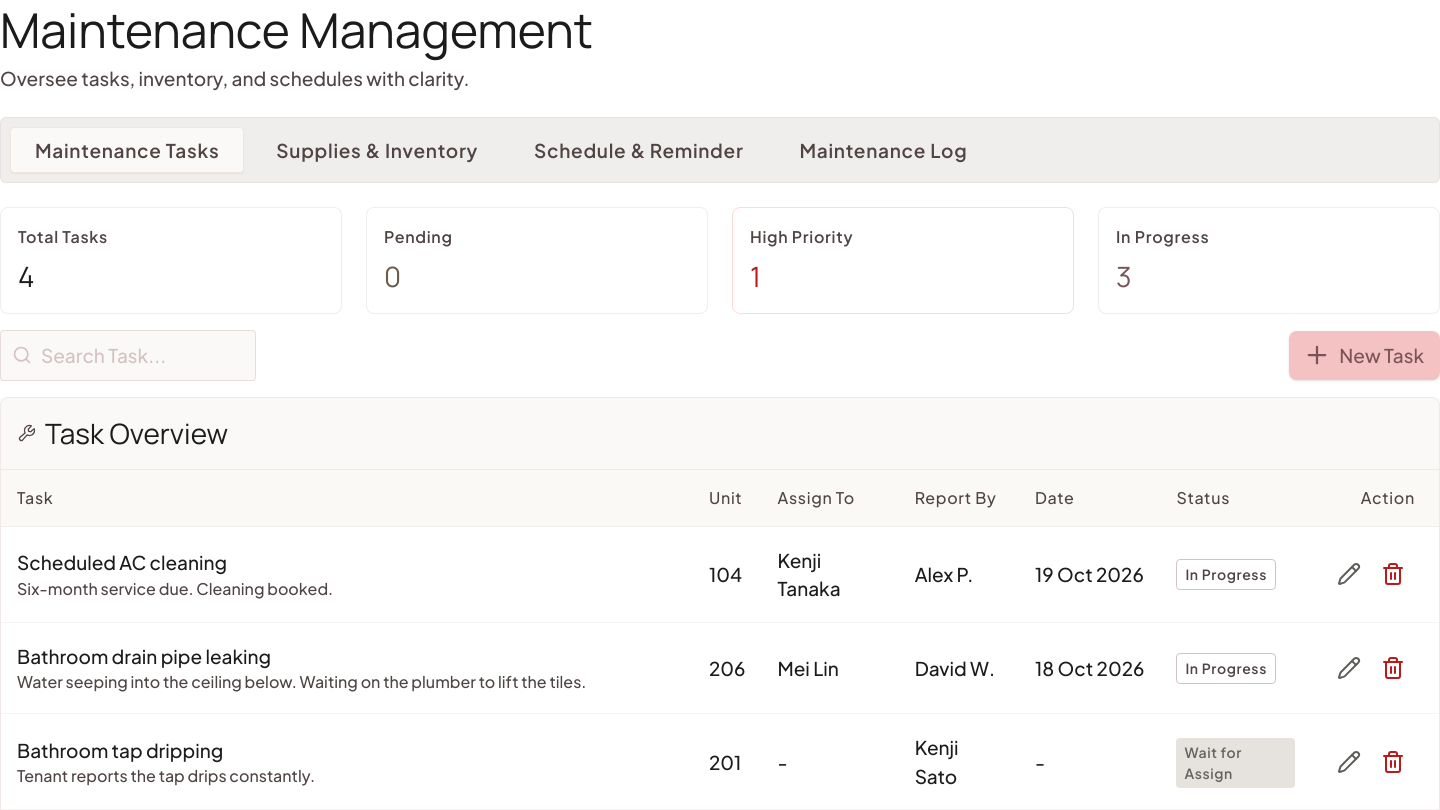
Scenario: แท็บ Maintenance Log › ค้นหาจนไม่เหลือรายการ แล้วกด Export ต้องไม่สร้างไฟล์เปล่า
The image size is (1440, 810).
Click the button "Maintenance Log" at (883,150), box [776, 126, 991, 173]
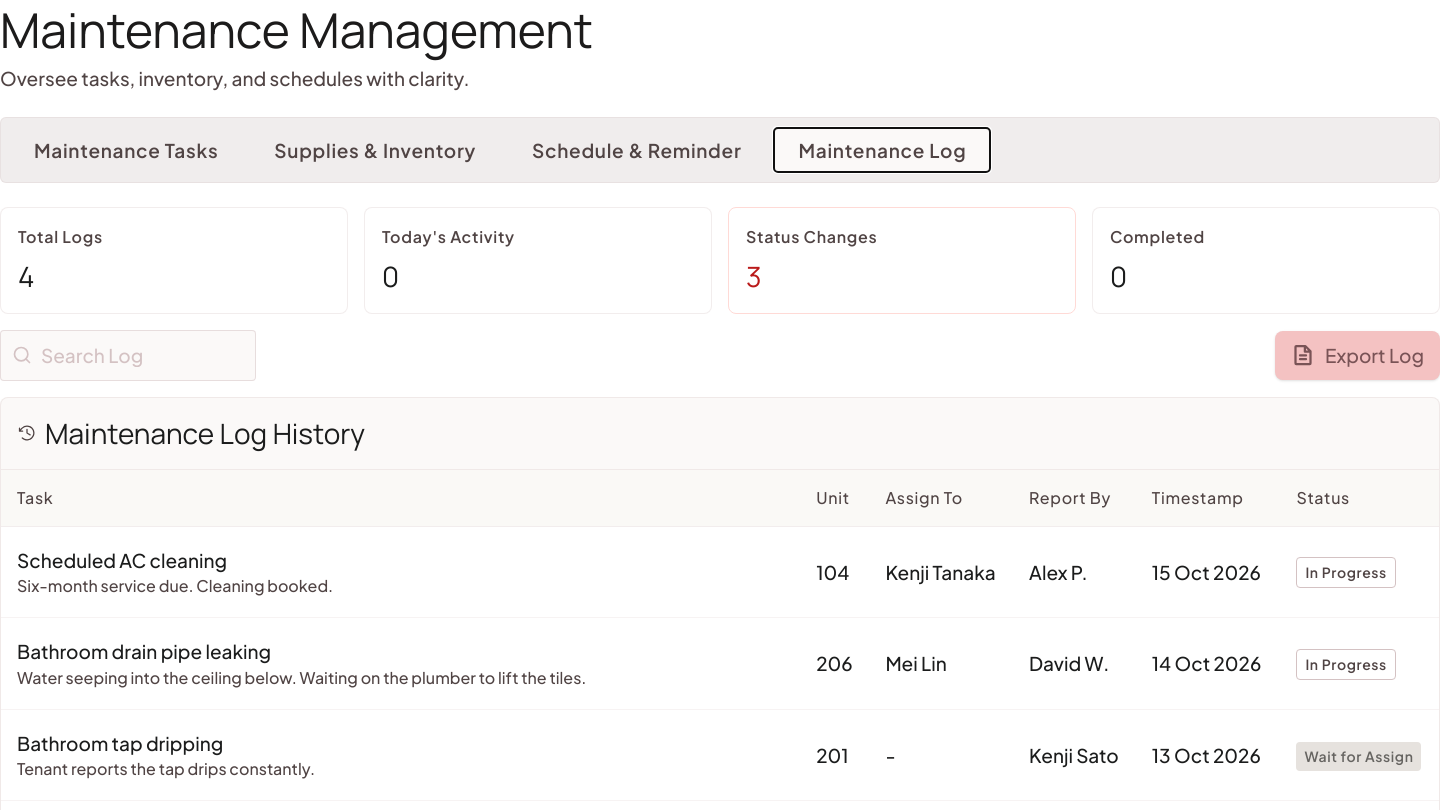
Type "no such task name" into the field named "Search the maintenance log" at (128,355), box [0, 330, 256, 381]
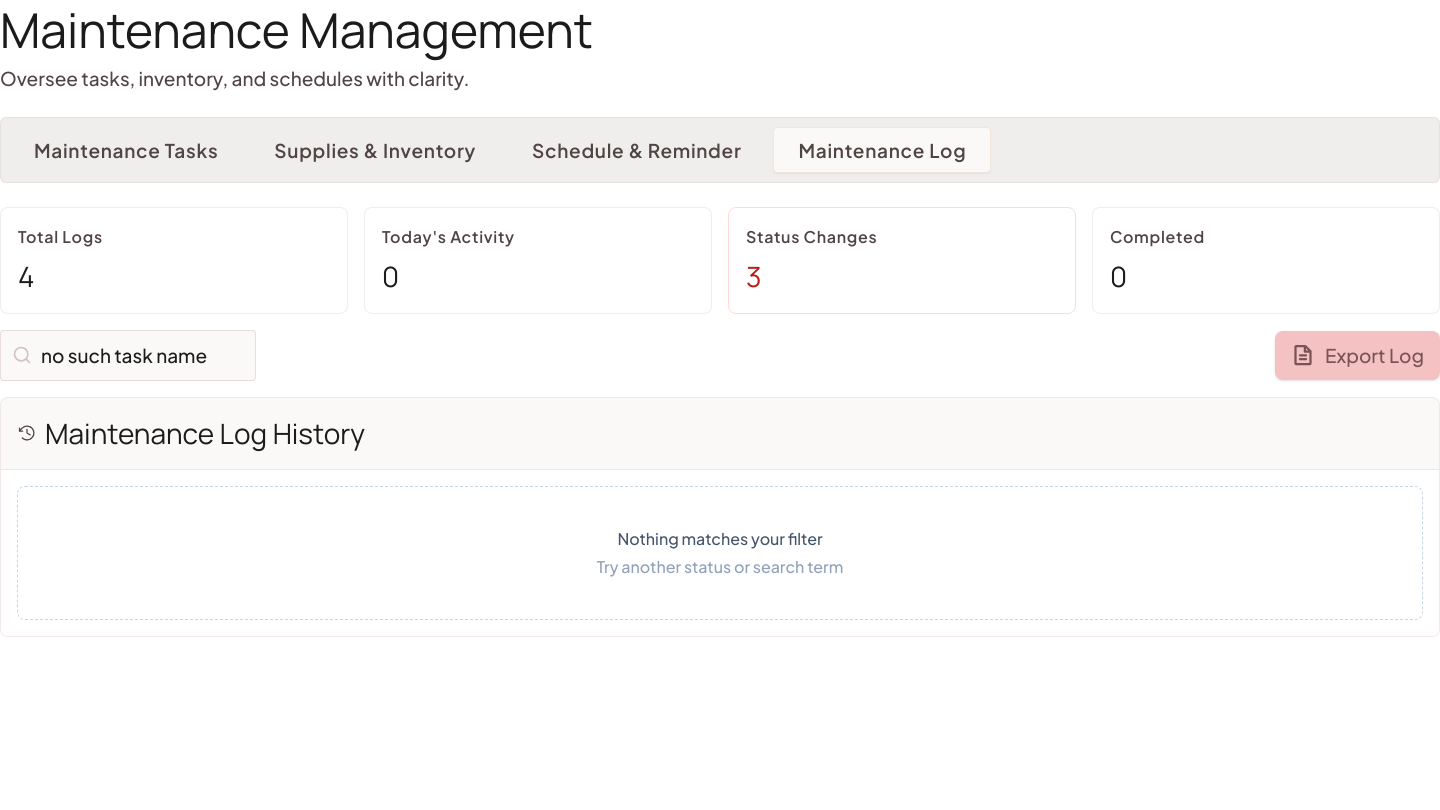
Click the button "Export Log" at (1358,355), box [1275, 331, 1439, 380]
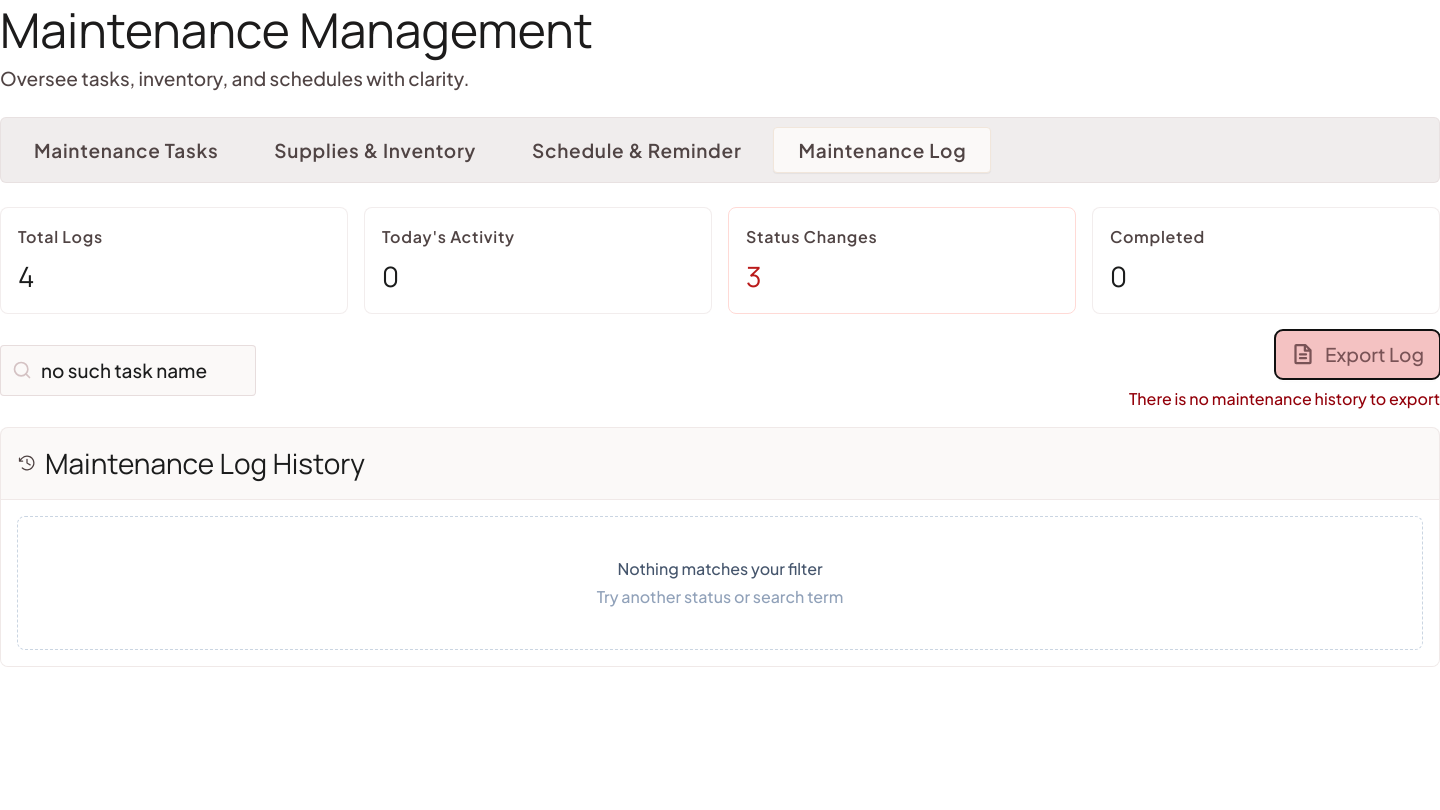
Expected: the message reads "There is no maintenance history to export", [1129, 388, 1439, 409]
